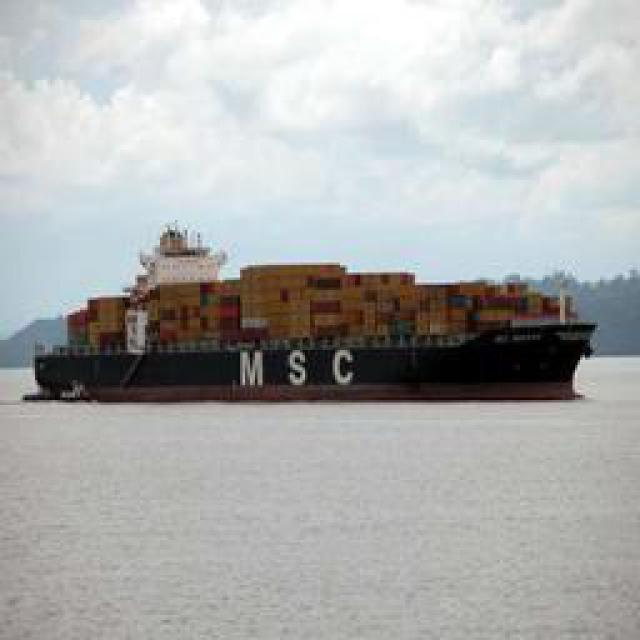Ship: (23, 250, 611, 405)
